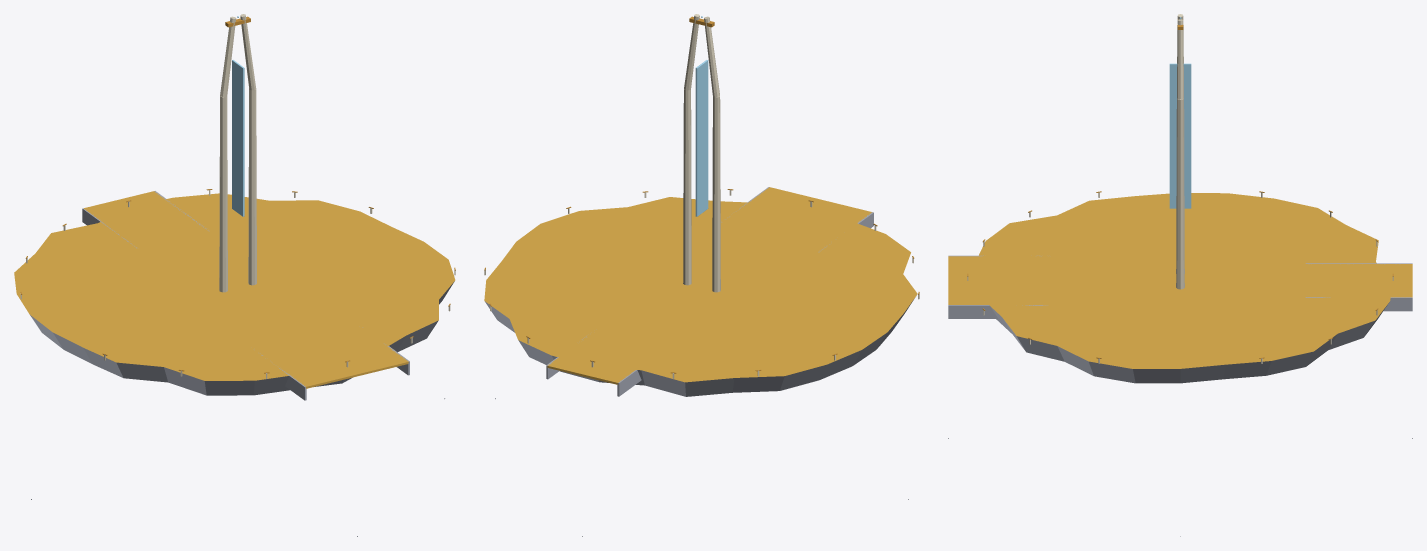
File: chunk_es_temple_gate_b.fbx
The picture shows the model from 3 angles, left to right: view 1: azimuth 30°, elevation 25°; view 2: azimuth 150°, elevation 25°; view 3: azimuth 270°, elevation 25°; orthographic projection. The views are drawn at different scales.
Parts seen in each view (by area): view 1: ES_TEMPLE_GATE_B; view 2: ES_TEMPLE_GATE_B; view 3: ES_TEMPLE_GATE_B.
Part boxes in pixels (left/top/right/bottom): ES_TEMPLE_GATE_B: left=14, top=14, right=455, bottom=536; ES_TEMPLE_GATE_B: left=484, top=14, right=919, bottom=536; ES_TEMPLE_GATE_B: left=948, top=14, right=1412, bottom=536.
Bounding box in the file's own units: 256 × 256 × 256.
